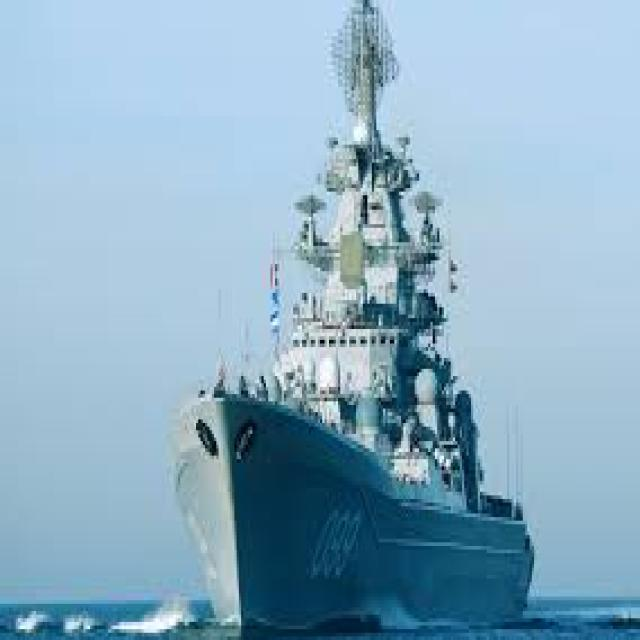navalvessels: (173, 12, 544, 636)
